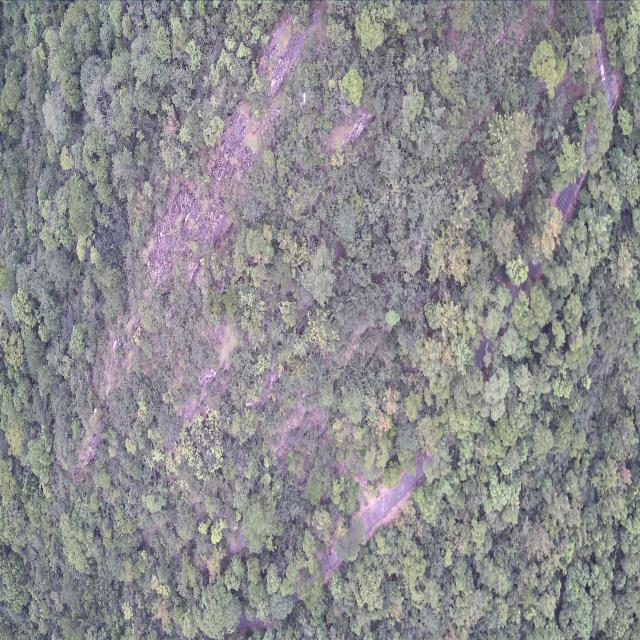UAV: (300, 90, 308, 106)
